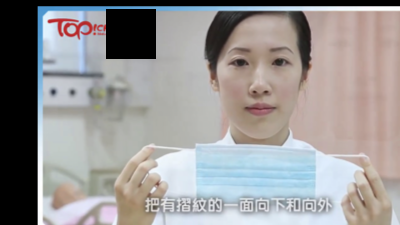without_mask: (215, 41, 302, 139)
